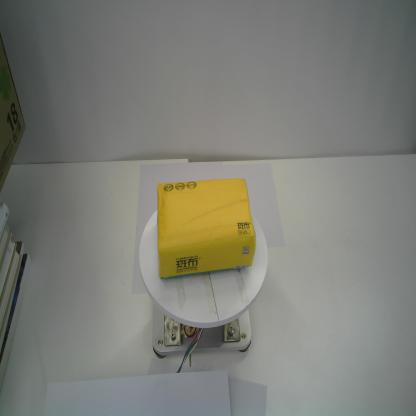Tissue: (156, 178, 256, 279)
